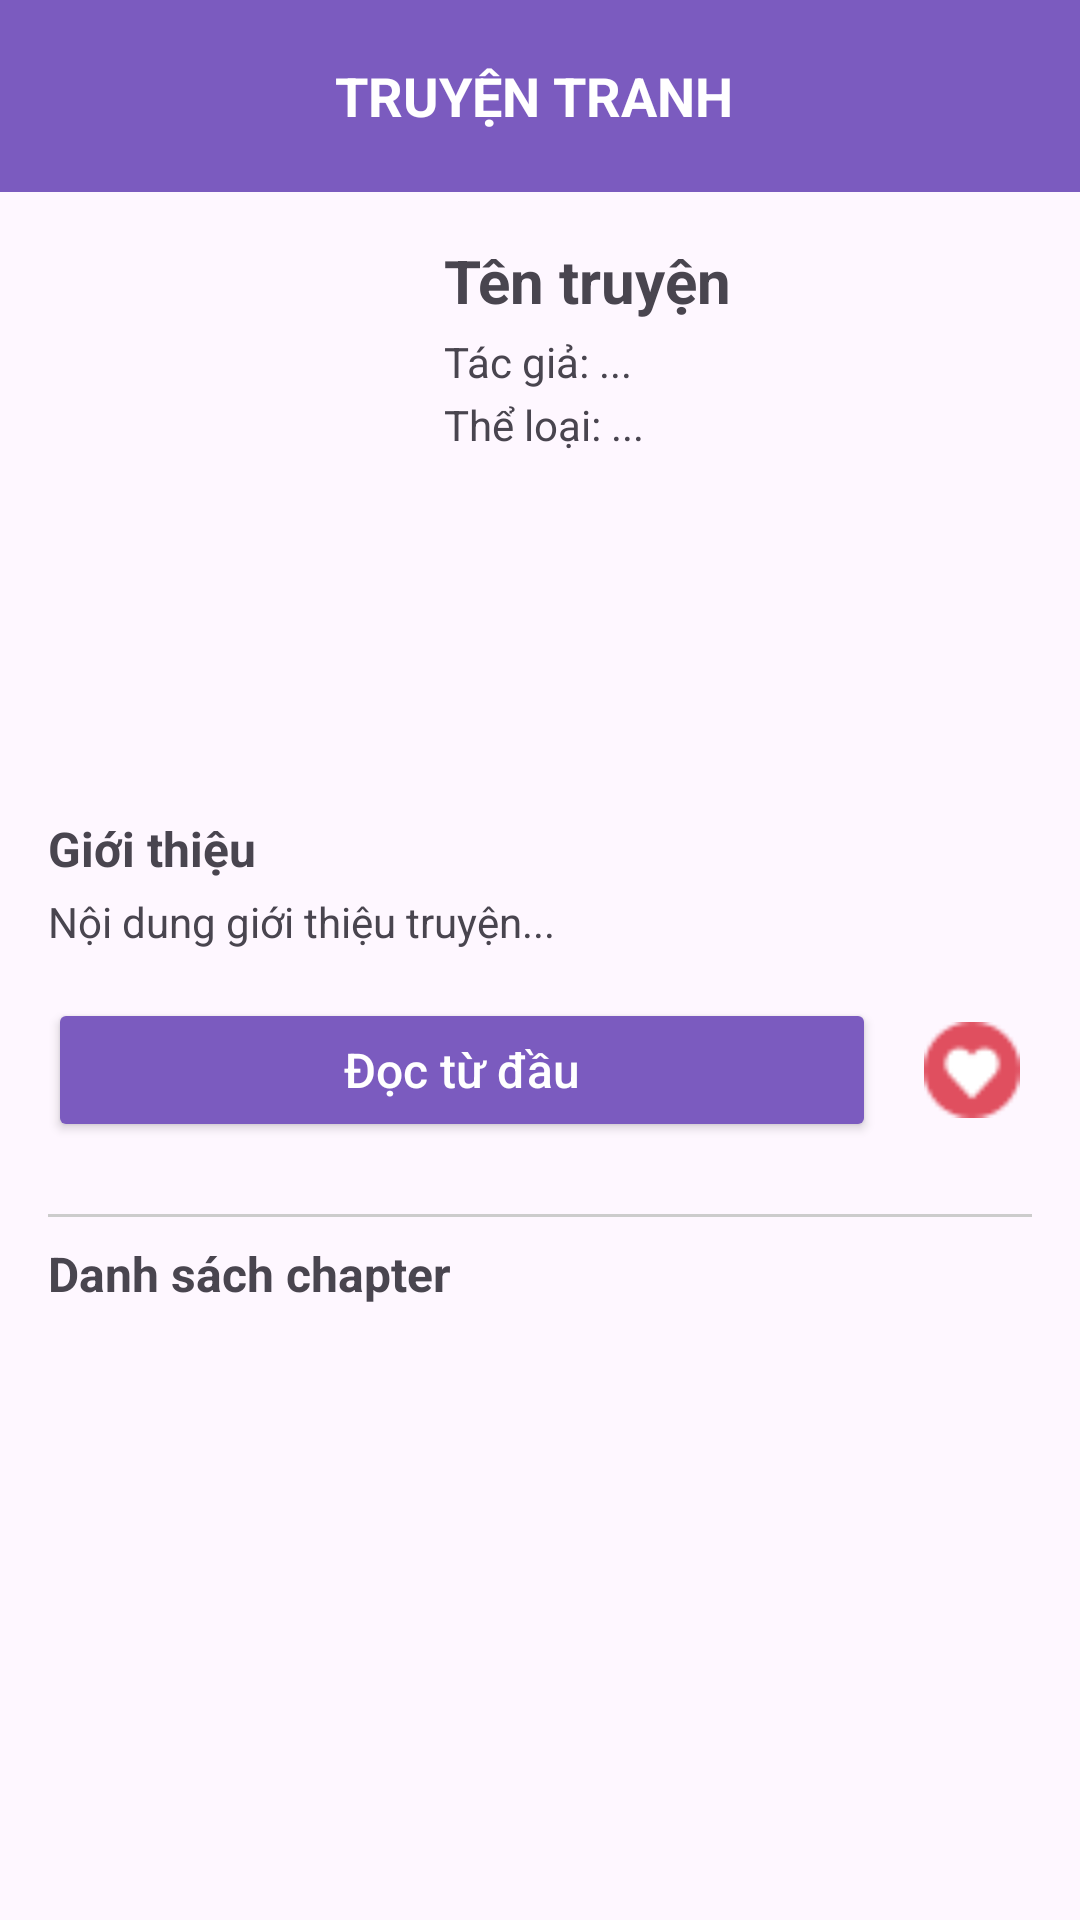

Screen size 1080×1920. Icon name, then its center in pixels as point (x, y):
Yêu thích truyện: point (972, 1070)
